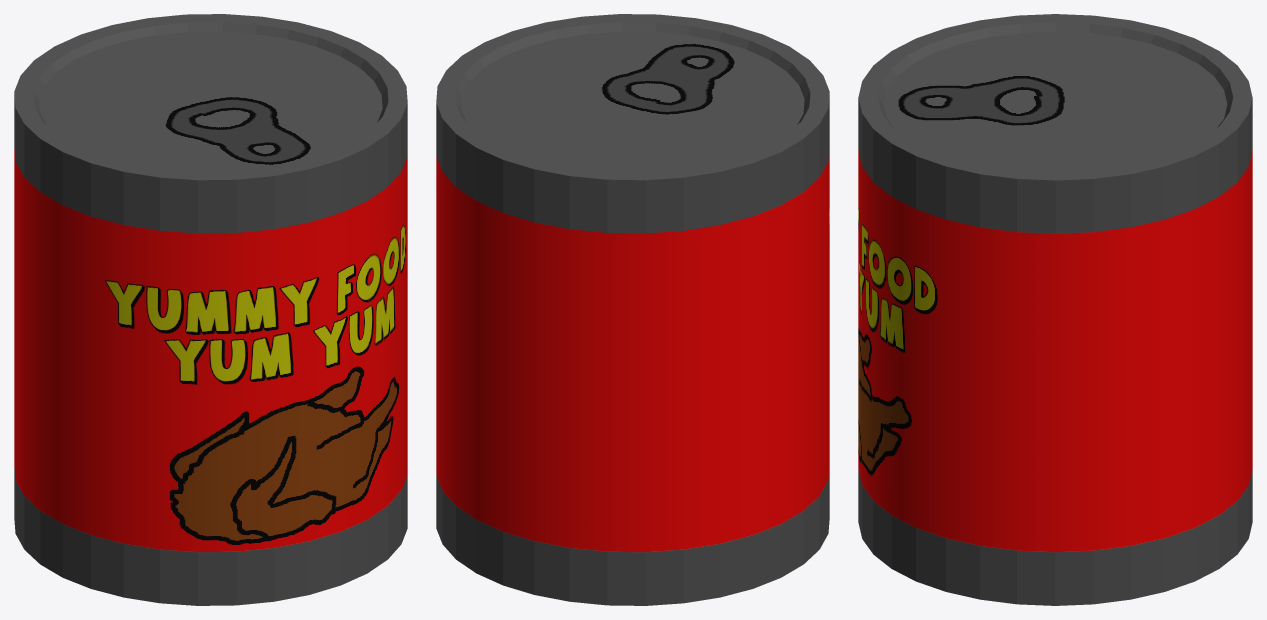
Rendered from tin can.glb.
The picture shows the model from 3 angles, left to right: view 1: azimuth 30°, elevation 25°; view 2: azimuth 150°, elevation 25°; view 3: azimuth 270°, elevation 25°; orthographic projection.
Parts seen in each view (by area): view 1: Cylinder; view 2: Cylinder; view 3: Cylinder.
Part boxes in pixels (left/top/right/bottom): Cylinder: left=14, top=14, right=407, bottom=605; Cylinder: left=436, top=14, right=829, bottom=605; Cylinder: left=858, top=14, right=1252, bottom=605.
Size of the model in its own units: 2 by 2.38 by 2.
Materials: 1 (1 with a texture image).
